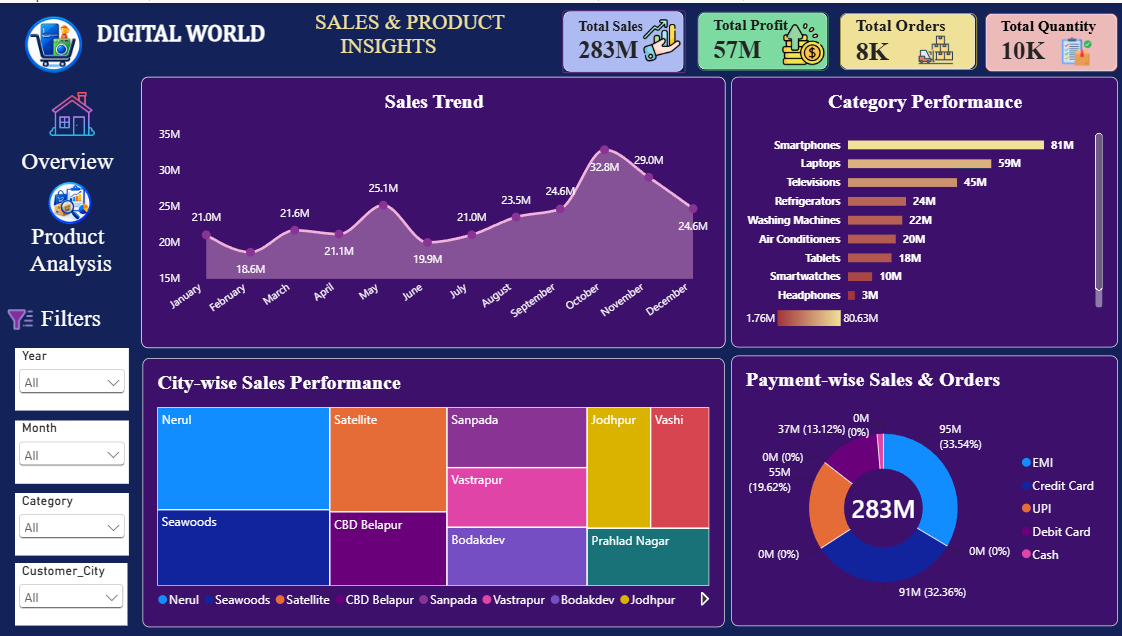

Layout of this report page (visuals, bound fields, positions):
{"tool":"powerbi","page":{"name":"Overview ","canvas":[1280,720],"ordinal":0},"visuals":[{"type":"textbox","box":[11.5,86.6,138.5,621.8],"z":0},{"type":"textbox","box":[11.5,11.5,297.2,43.3],"z":1000},{"type":"cardVisual","fields":{"Data":["Measure.Total Quantity"]},"box":[1121,11.5,151,67],"z":2000},{"type":"clusteredBarChart","title":" Category Performance ","fields":{"Category":["Sales_Data.Category"],"Y":["Measure.Total Sales"]},"box":[832.5,83.7,439.6,307.9],"z":3000},{"type":"treemap","title":"Total Sales By Region","fields":{"Group":["Sales_Data.Customer_City"],"Values":["Measure.Total Sales"]},"box":[1310.8,654.1,584.7,381.8],"z":4000},{"type":"slicer","fields":{"Values":["DateTable.Year"]},"box":[17.3,392.4,129.9,71.2],"z":5000},{"type":"slicer","fields":{"Values":["DateTable.Month"]},"box":[630.5,510.7,129.9,80.1],"z":6000},{"type":"slicer","fields":{"Values":["Sales_Data.Category"]},"box":[17.3,556.9,129.9,71.2],"z":7000},{"type":"slicer","fields":{"Values":["Sales_Data.Customer_City"]},"box":[17.3,637.7,128.1,71.2],"z":8000},{"type":"lineChart","title":"Sales Trend ","fields":{"Y":["Measure.Total Sales"],"Category":["DateTable.Month"]},"box":[160.1,83.7,665.1,308.8],"z":9000},{"type":"treemap","title":"City-wise Sales Performance","fields":{"Values":["Measure.Total Sales"],"Group":["Sales_Data.Customer_City"]},"box":[161.6,404,662.1,306.1],"z":10000},{"type":"donutChart","title":"Payment-wise Sales & Orders","fields":{"Y":["Measure.Total Sales","Measure.Total Orders"],"Category":["Sales_Data.Payment_Method"]},"box":[832.5,401.1,439.6,307.9],"z":11000},{"type":"image","box":[1.8,12.5,119.2,69.4],"z":12000},{"type":"image","box":[41.8,197.7,76.5,60.6],"z":13000},{"type":"image","box":[1.8,343.5,42.7,32],"z":14000},{"type":"textbox","box":[321.7,8.7,295.8,60.6],"z":15000},{"type":"image","box":[1196.8,38.6,57.9,33.8],"z":16000},{"type":"slicer","fields":{"Values":["DateTable.Month"]},"box":[17.3,474.7,129.8,72.1],"z":17000},{"type":"image","box":[44.5,99.7,76.5,55.2],"z":18000},{"type":"cardVisual","fields":{"Data":["Measure.Total Orders"]},"box":[955.5,12.1,155.6,65.1],"z":19000},{"type":"image","box":[1033.9,33.8,61.5,38.6],"z":20000},{"type":"cardVisual","fields":{"Data":["Measure.Total Profit"]},"box":[793.8,9.7,149.6,67.6],"z":21000},{"type":"image","box":[886.7,22.9,56.3,47.6],"z":22000},{"type":"cardVisual","fields":{"Data":["Measure.Total Sales"]},"box":[639.4,8.4,139.9,71.2],"z":23000},{"type":"image","box":[713,18.1,80.8,47.6],"z":24000}]}

Visuals, with their boxes in screenshot pixels (x1, y1, x2, y2), scaled from the page's 1280x720 canvas onto the 1122x636 screenshot:
textbox: [x1=10, y1=76, x2=131, y2=626]
textbox: [x1=10, y1=10, x2=271, y2=48]
cardVisual - Measure.Total Quantity: [x1=983, y1=10, x2=1115, y2=69]
" Category Performance " clusteredBarChart: [x1=730, y1=74, x2=1115, y2=346]
slicer - DateTable.Year: [x1=15, y1=347, x2=129, y2=410]
slicer - DateTable.Month: [x1=553, y1=451, x2=667, y2=522]
slicer - Sales_Data.Category: [x1=15, y1=492, x2=129, y2=555]
slicer - Sales_Data.Customer_City: [x1=15, y1=563, x2=127, y2=626]
"Sales Trend " lineChart: [x1=140, y1=74, x2=723, y2=347]
"City-wise Sales Performance" treemap: [x1=142, y1=357, x2=722, y2=627]
"Payment-wise Sales & Orders" donutChart: [x1=730, y1=354, x2=1115, y2=626]
image: [x1=2, y1=11, x2=106, y2=72]
image: [x1=37, y1=175, x2=104, y2=228]
image: [x1=2, y1=303, x2=39, y2=332]
textbox: [x1=282, y1=8, x2=541, y2=61]
image: [x1=1049, y1=34, x2=1100, y2=64]
slicer - DateTable.Month: [x1=15, y1=419, x2=129, y2=483]
image: [x1=39, y1=88, x2=106, y2=137]
cardVisual - Measure.Total Orders: [x1=838, y1=11, x2=974, y2=68]
image: [x1=906, y1=30, x2=960, y2=64]
cardVisual - Measure.Total Profit: [x1=696, y1=9, x2=827, y2=68]
image: [x1=777, y1=20, x2=827, y2=62]
cardVisual - Measure.Total Sales: [x1=560, y1=7, x2=683, y2=70]
image: [x1=625, y1=16, x2=696, y2=58]
